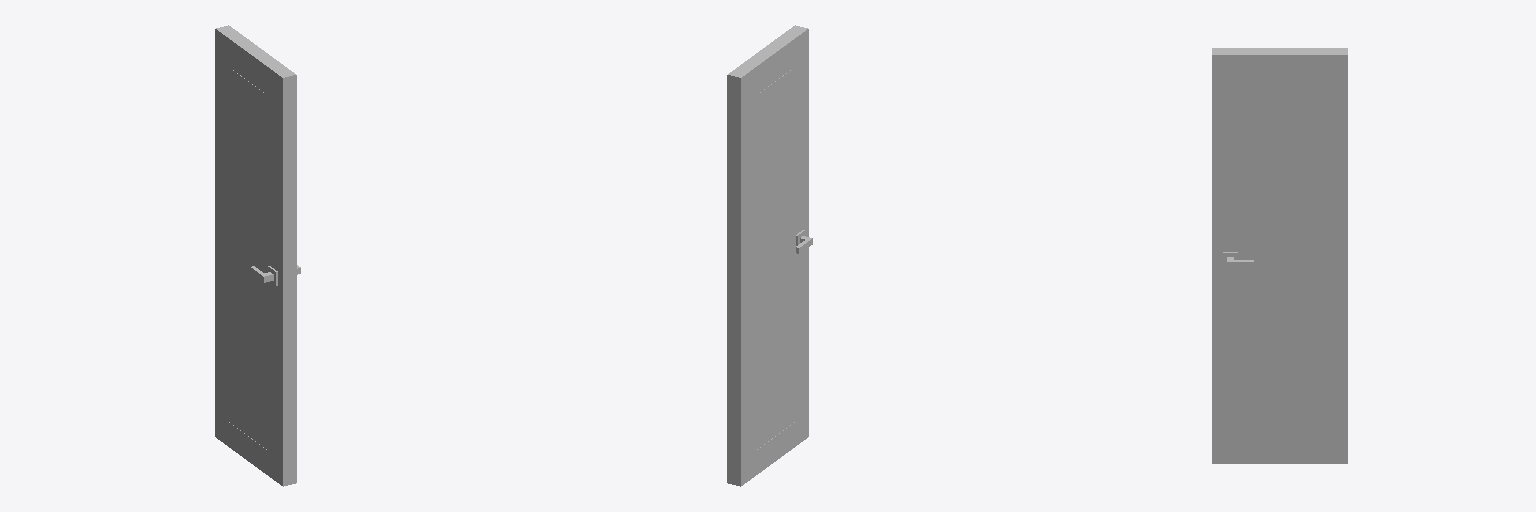
The model's file is door602_.obj.
The picture shows the model from 3 angles: view 1: azimuth 30°, elevation 25°; view 2: azimuth 150°, elevation 25°; view 3: azimuth 270°, elevation 25°; orthographic projection.
Visible parts, largest first — view 1: Cube_Cube; view 2: Cube_Cube; view 3: Cube_Cube.
Boxes of the visible parts, x1,y1,x2,y2 form: Cube_Cube: [215, 25, 300, 486]; Cube_Cube: [727, 25, 812, 486]; Cube_Cube: [1212, 48, 1347, 463].
Size of the model in its own units: 0.19 by 2 by 0.5997.